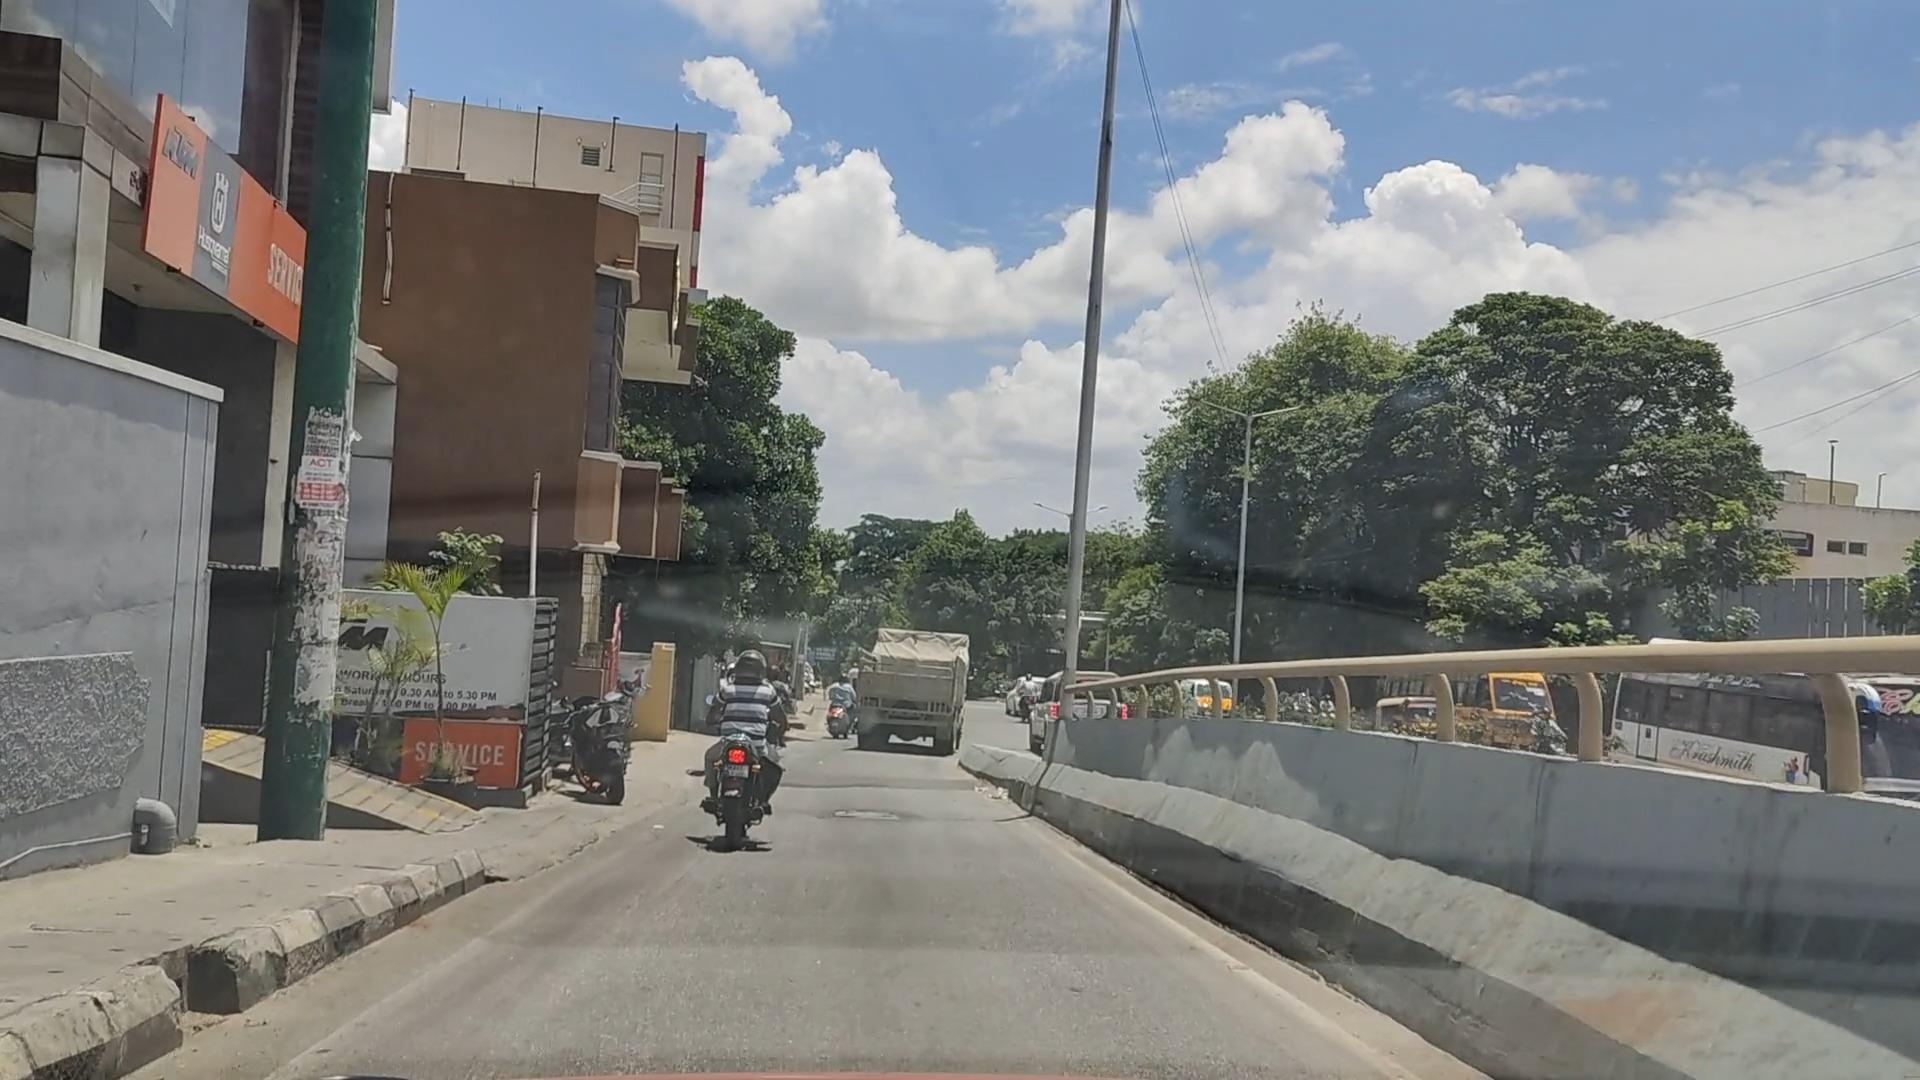HMV: (844, 618, 987, 777)
RoadDamages: (808, 786, 924, 839)
